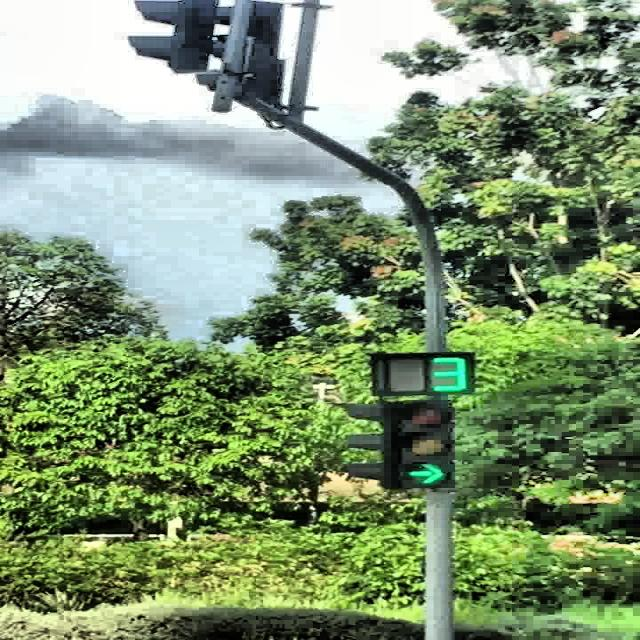green: (395, 401, 454, 489)
